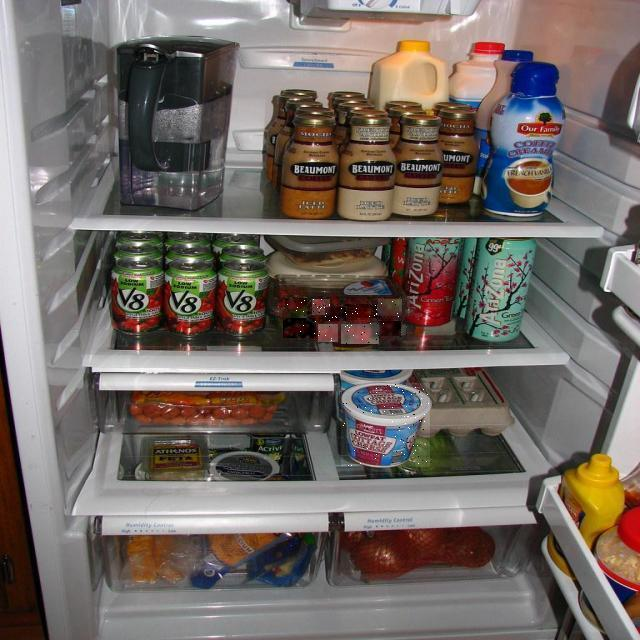Straw Berry: (341, 324, 379, 344), (284, 318, 318, 338), (370, 322, 401, 338), (345, 304, 377, 318), (285, 299, 307, 319), (378, 300, 402, 318), (318, 325, 338, 343), (325, 307, 346, 321), (312, 299, 330, 315)
Yoghurt: (341, 383, 430, 467)
